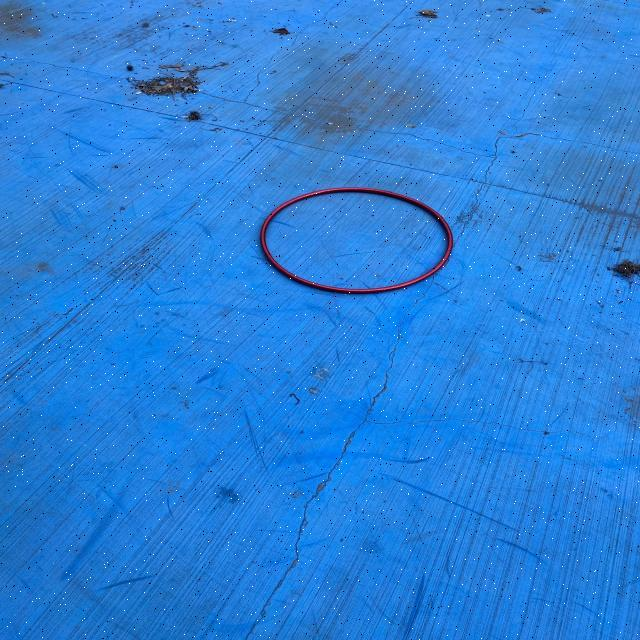Circle: (257, 186, 455, 296)
